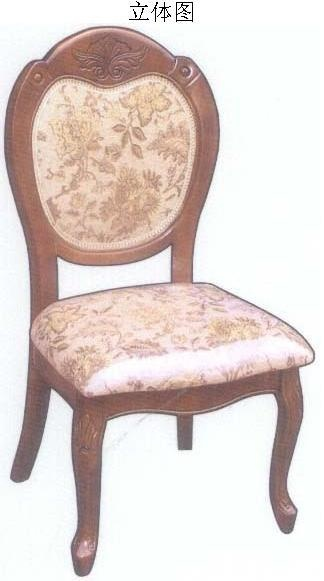obstacle: (5, 27, 312, 574)
